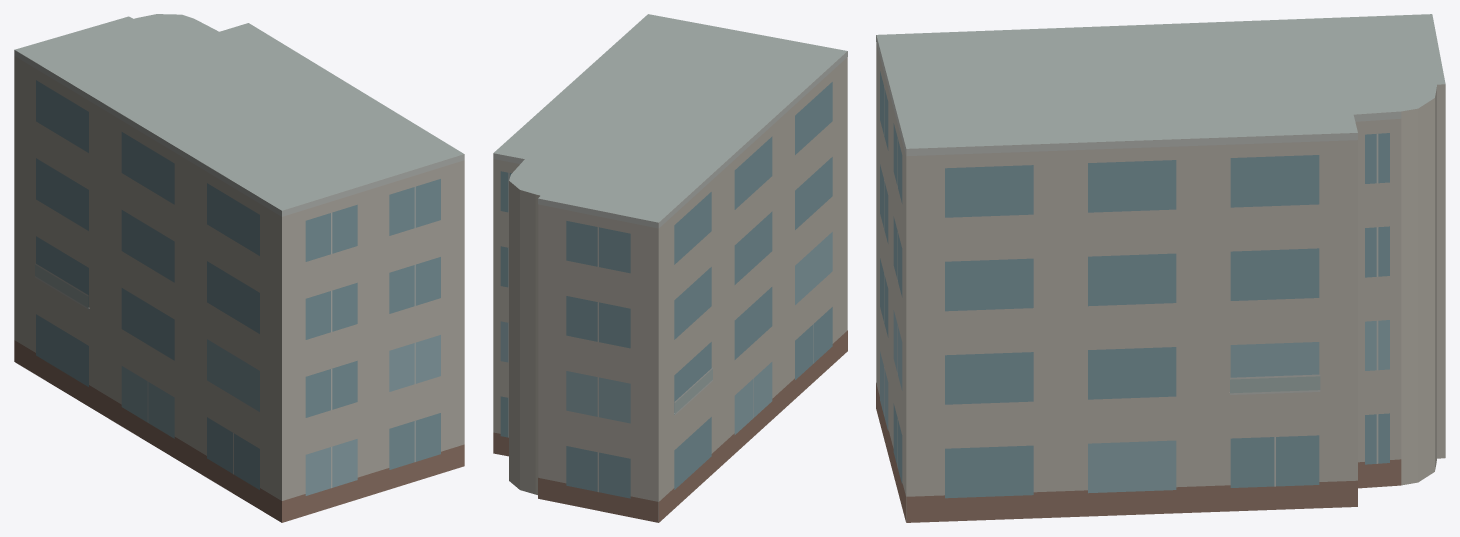
The model's file is survey-upis-32708736.glb.
3 views of the same model, side by side, from view 1: azimuth 30°, elevation 25°; view 2: azimuth 150°, elevation 25°; view 3: azimuth 270°, elevation 25° (orthographic). The views are drawn at different scales.
Parts seen in each view (by area): view 1: survey-upis-32708736.tmp; view 2: survey-upis-32708736.tmp; view 3: survey-upis-32708736.tmp.
Part boxes in pixels (x1=…): survey-upis-32708736.tmp: x1=14, y1=14, x2=464, y2=522; survey-upis-32708736.tmp: x1=493, y1=14, x2=847, y2=522; survey-upis-32708736.tmp: x1=876, y1=14, x2=1445, y2=522.
Bounding box in the file's own units: 9.68 × 12.5 × 17.26.
